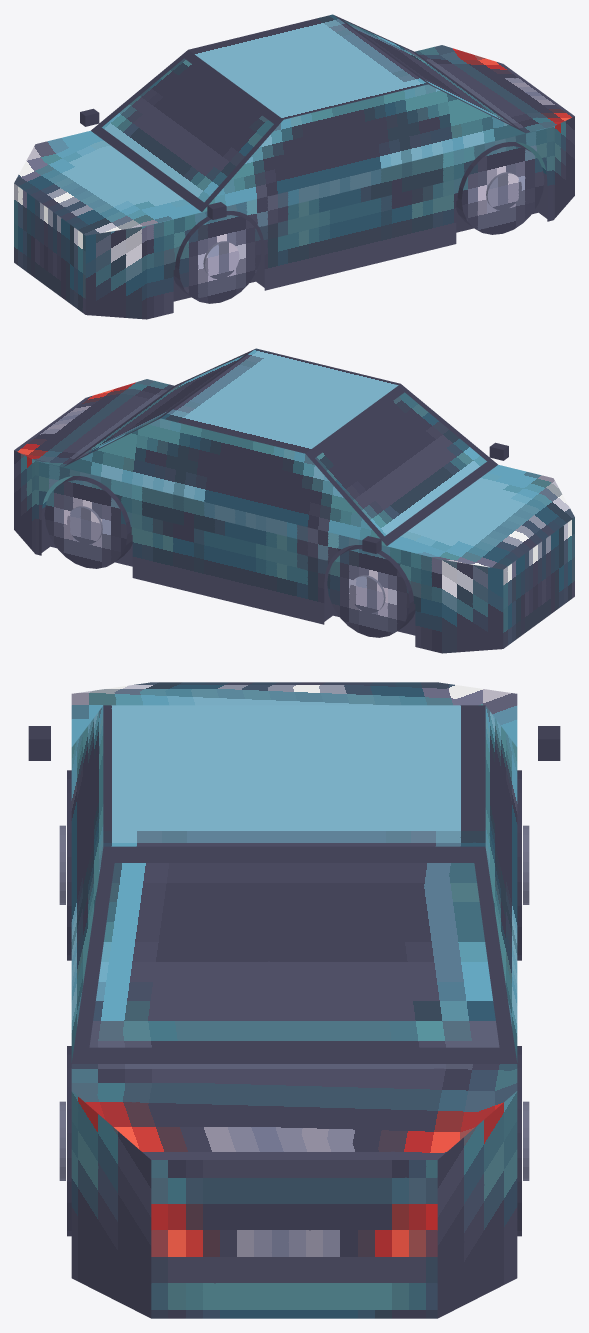
The model's file is car-22-v1.glb.
3 renders of one model, top to bottom at view 1: azimuth 30°, elevation 25°; view 2: azimuth 150°, elevation 25°; view 3: azimuth 270°, elevation 25°, orthographic. The views are drawn at different scales.
Visible parts, largest first — view 1: Passenger-body-west, Cabin-windows-west, Roof, Windshield-glass, Hood, Front-fascia, Trunk, Front-corner--1, Tire_RL, Tire_FL, Windshield-frame, Rear-window-glass (+7 smaller); view 2: Passenger-body-east, Cabin-windows-east, Roof, Windshield-glass, Hood, Front-fascia, Trunk, Front-corner-1, Tire_RR, Tire_FR, Windshield-frame, Rear-window-glass (+7 smaller); view 3: Rear-window-glass, Roof, Rear-fascia, Trunk, Rear-window-frame, Rear-corner-1, Rear-corner--1, Hood, Cabin-windows-east, Cabin-windows-west, Tire_FL, Tire_FR (+4 smaller).
Boxes of the visible parts, x1=… form: Passenger-body-west: x1=147, y1=126, x2=553, y2=319; Cabin-windows-west: x1=202, y1=84, x2=525, y2=212; Roof: x1=188, y1=14, x2=427, y2=119; Windshield-glass: x1=102, y1=58, x2=273, y2=202; Hood: x1=14, y1=131, x2=201, y2=235; Front-fascia: x1=14, y1=183, x2=85, y2=314; Trunk: x1=415, y1=45, x2=574, y2=132; Front-corner--1: x1=85, y1=225, x2=146, y2=319; Tire_RL: x1=456, y1=142, x2=544, y2=234; Tire_FL: x1=173, y1=211, x2=261, y2=303; Windshield-frame: x1=91, y1=50, x2=283, y2=211; Rear-window-glass: x1=343, y1=20, x2=513, y2=125; Passenger-body-east: x1=35, y1=460, x2=441, y2=653; Cabin-windows-east: x1=63, y1=418, x2=386, y2=546; Roof: x1=161, y1=348, x2=400, y2=453; Windshield-glass: x1=315, y1=392, x2=486, y2=536; Hood: x1=387, y1=465, x2=574, y2=569; Front-fascia: x1=503, y1=517, x2=574, y2=648; Trunk: x1=14, y1=379, x2=173, y2=466; Front-corner-1: x1=442, y1=559, x2=503, y2=653; Tire_RR: x1=44, y1=476, x2=132, y2=568; Tire_FR: x1=327, y1=545, x2=415, y2=637; Windshield-frame: x1=305, y1=384, x2=497, y2=545; Rear-window-glass: x1=75, y1=354, x2=245, y2=459; Rear-window-glass: x1=89, y1=863, x2=499, y2=1047; Roof: x1=103, y1=705, x2=485, y2=846; Rear-fascia: x1=151, y1=1160, x2=437, y2=1318; Trunk: x1=71, y1=1064, x2=517, y2=1159; Rear-window-frame: x1=71, y1=846, x2=517, y2=1063; Rear-corner-1: x1=437, y1=1091, x2=517, y2=1318; Rear-corner--1: x1=71, y1=1091, x2=151, y2=1318; Hood: x1=71, y1=682, x2=517, y2=746; Cabin-windows-east: x1=485, y1=706, x2=517, y2=1062; Cabin-windows-west: x1=71, y1=706, x2=103, y2=1062; Tire_FL: x1=67, y1=770, x2=71, y2=960; Tire_FR: x1=517, y1=770, x2=521, y2=960.
Bounding box in the file's own units: 71 × 22 × 33.4.
1 material, 1 textured.
